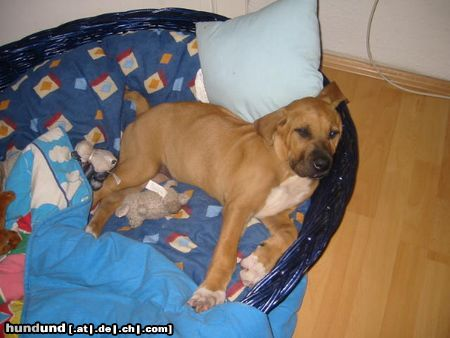tosa_inu: (82, 79, 351, 313)
